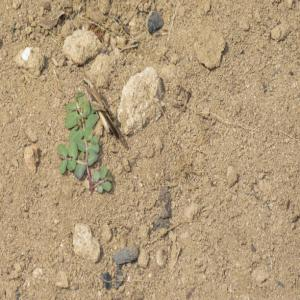locust: (74, 66, 134, 141)
